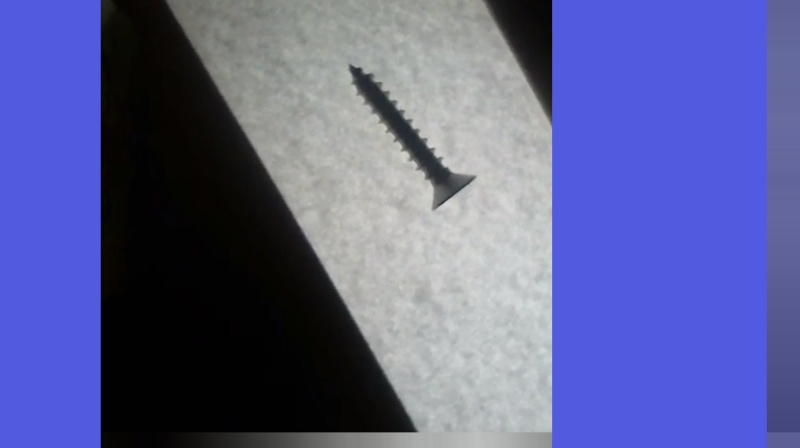S001: (344, 60, 480, 214)
